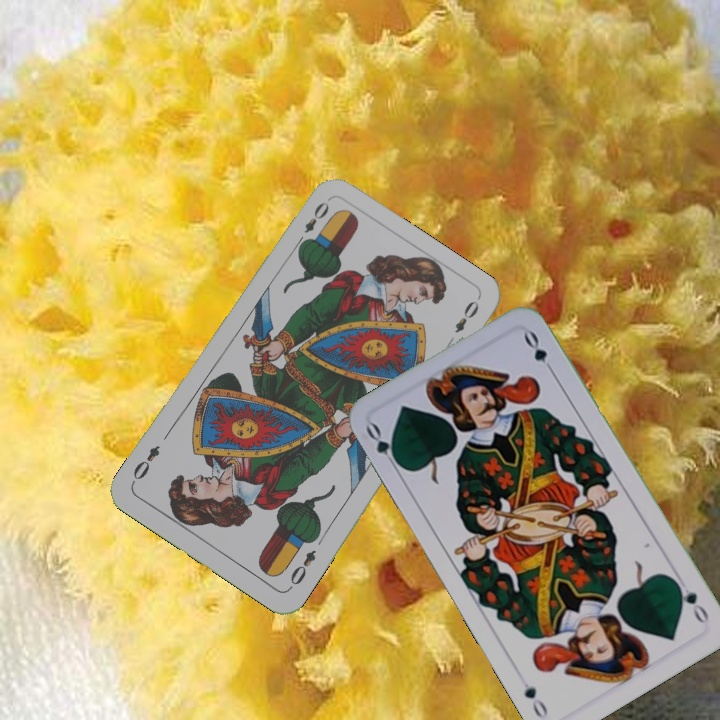EO: (292, 197, 332, 249), (285, 545, 319, 592)
GO: (361, 419, 405, 474), (670, 576, 712, 627)
